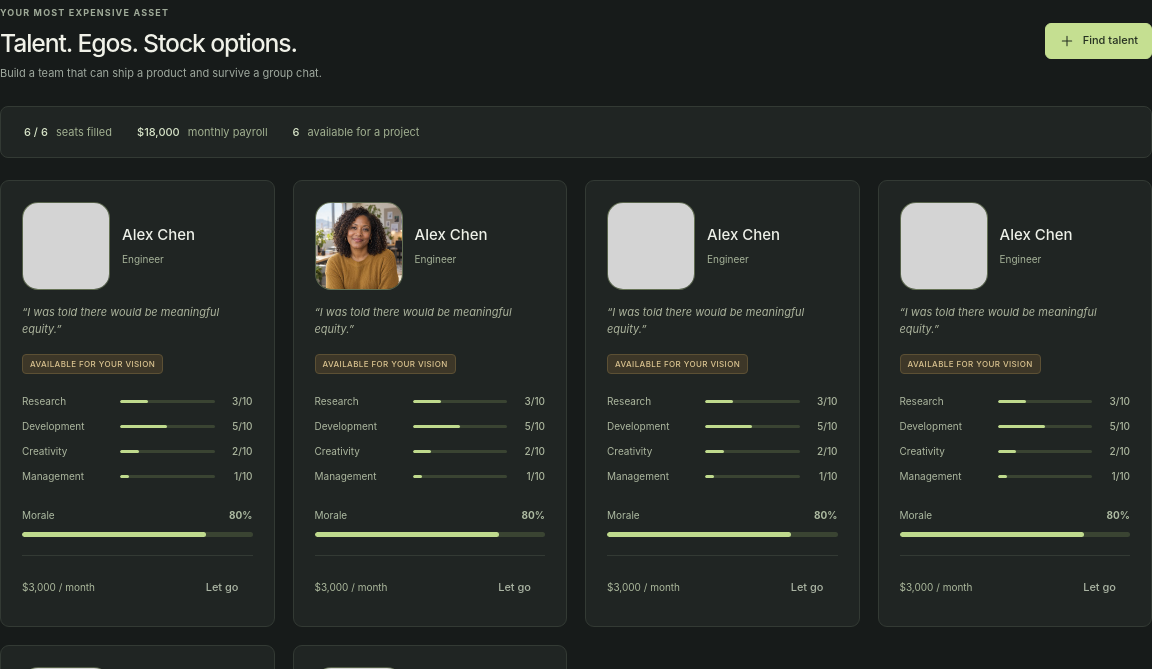
Test: management workflows › prevents hiring past the office capacity
The image size is (1152, 669).
Click the button "Find talent" at (1098, 41), box [1045,23,1151,59]
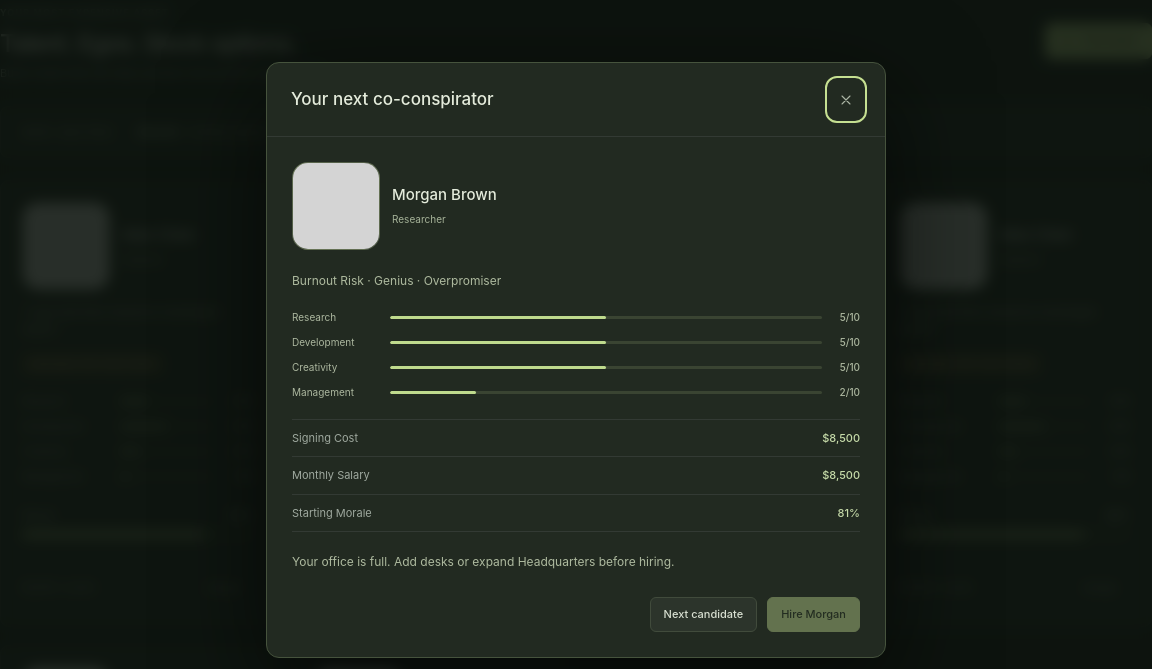
Now the button "Hire Morgan" is disabled, box [767,597,860,632]
Now the dialog shows "Your office is full", box [292,554,674,569]
